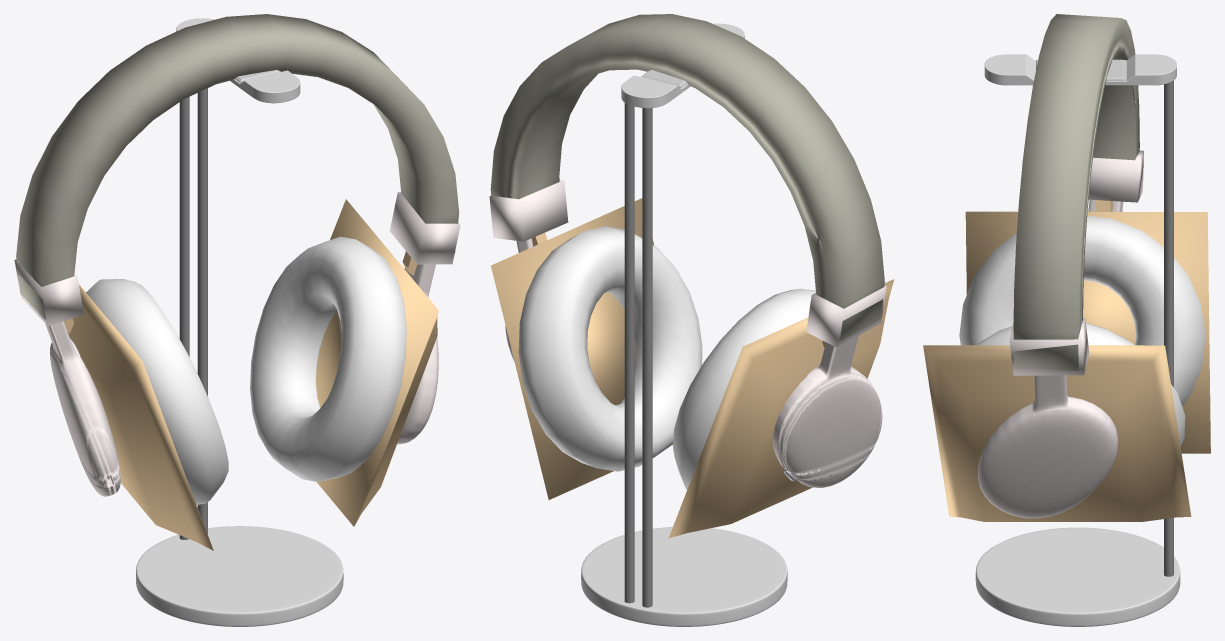
File: asset.glb
The picture shows the model from 3 angles, left to right: view 1: azimuth 30°, elevation 25°; view 2: azimuth 150°, elevation 25°; view 3: azimuth 270°, elevation 25°; orthographic projection.
Visible parts, largest first — view 1: Cylinder, Torus.001, Headphone Stand Aluminum, Cube.004, Torus.002, Cube, Cube.003, Cube.007, Cube.002, Cube.006; view 2: Cylinder, Headphone Stand Aluminum, Torus.001, Cube.004, Cube.003, Cube, Torus.002, Cube.007, Cube.006; view 3: Cylinder, Cube, Headphone Stand Aluminum, Torus.002, Cube.002, Cube.004, Cube.006, Cube.007, Torus.001.
Part boxes in pixels (left/top/right/bottom): Cylinder: left=16, top=14, right=459, bottom=319; Torus.001: left=250, top=236, right=406, bottom=481; Headphone Stand Aluminum: left=136, top=18, right=343, bottom=626; Cube.004: left=67, top=284, right=213, bottom=550; Torus.002: left=86, top=279, right=228, bottom=504; Cube: left=316, top=199, right=438, bottom=526; Cube.003: left=45, top=321, right=120, bottom=496; Cube.007: left=390, top=192, right=460, bottom=264; Cube.002: left=397, top=264, right=438, bottom=444; Cube.006: left=14, top=259, right=83, bottom=326; Cylinder: left=490, top=14, right=884, bottom=340; Headphone Stand Aluminum: left=581, top=23, right=787, bottom=626; Torus.001: left=518, top=226, right=702, bottom=471; Cube.004: left=668, top=279, right=894, bottom=538; Cube.003: left=773, top=335, right=882, bottom=487; Cube: left=491, top=198, right=673, bottom=499; Torus.002: left=673, top=288, right=815, bottom=489; Cube.007: left=489, top=180, right=568, bottom=241; Cube.006: left=806, top=285, right=886, bottom=347; Cylinder: left=1013, top=14, right=1139, bottom=371; Cube: left=923, top=345, right=1191, bottom=521; Headphone Stand Aluminum: left=975, top=54, right=1180, bottom=626; Torus.002: left=959, top=215, right=1205, bottom=406; Cube.002: left=978, top=375, right=1117, bottom=518; Cube.004: left=965, top=211, right=1210, bottom=453; Cube.006: left=1088, top=150, right=1143, bottom=202; Cube.007: left=1009, top=318, right=1089, bottom=375; Torus.001: left=976, top=323, right=1185, bottom=446.
Size of the model in its own units: 4.6 by 6.18 by 2.94.
